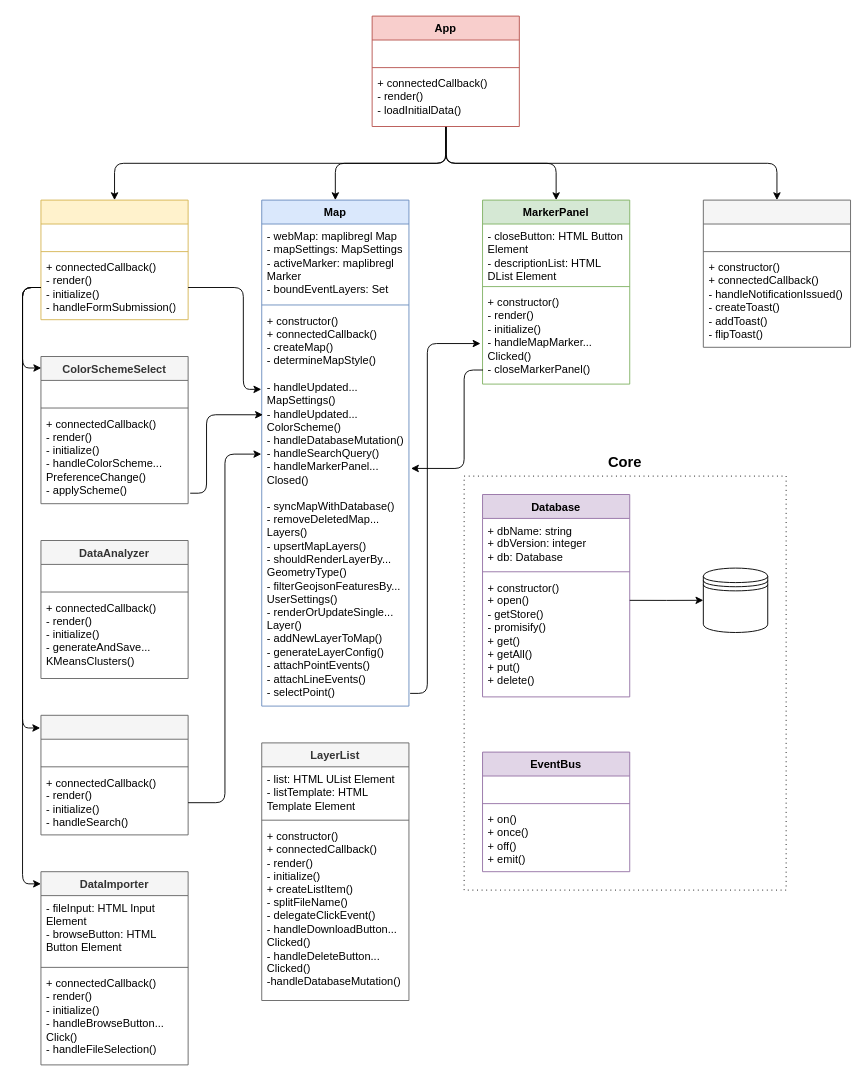
The diagram is 867 pixels wide and 1084 high, and some of its shapes have lost their labels. The shapes that lost their labels are listed below. From the top down, each one's box as (x1, y1, x2, y2) in pixels, then its label:
(40, 199, 188, 320): ControlPanel
(702, 199, 851, 347): Toaster
(702, 567, 768, 632): IndexedDB
(40, 714, 188, 835): MapSearch
